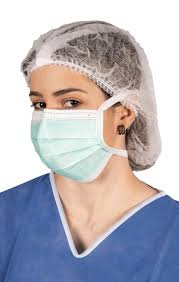with_mask_and_cap: (25, 22, 143, 182)
